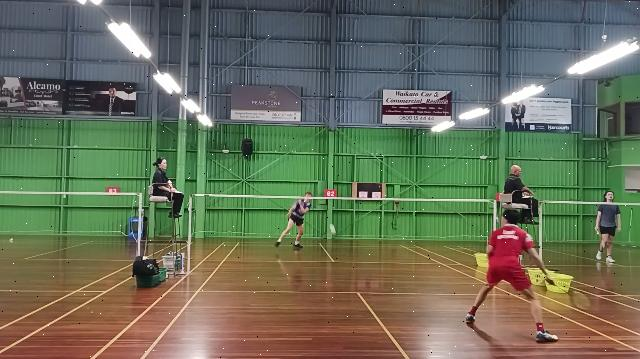Shuttlecock: (326, 224, 338, 236)
